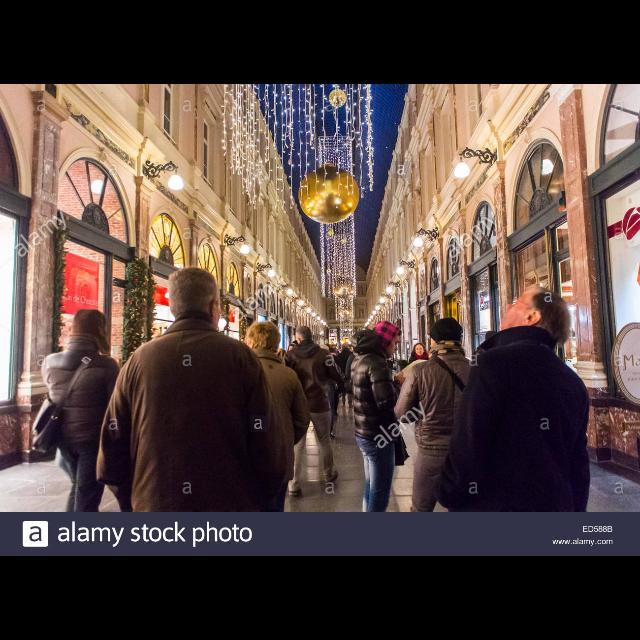head: (498, 288, 568, 338), (167, 268, 223, 330), (245, 320, 281, 356), (430, 318, 462, 352), (374, 323, 402, 361), (73, 311, 105, 344), (295, 327, 313, 347), (318, 344, 330, 358), (414, 344, 426, 356), (342, 344, 348, 352)
person: (275, 326, 341, 498), (395, 343, 443, 447), (308, 345, 346, 441), (329, 344, 358, 411)
